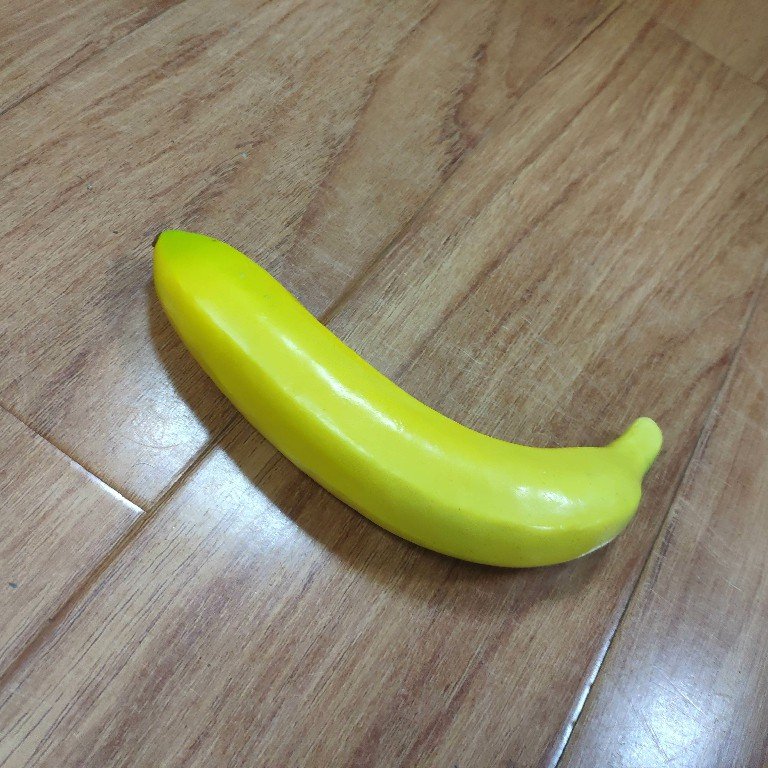fruit_banana: (148, 223, 664, 574)
